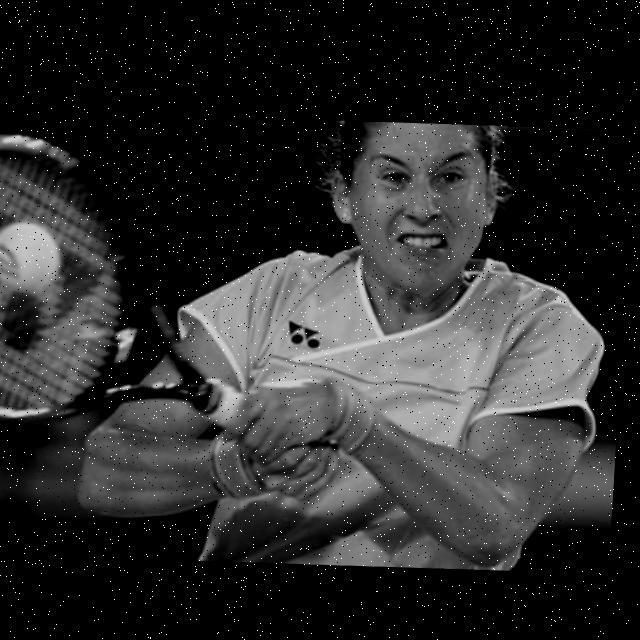face: (328, 120, 493, 304)
